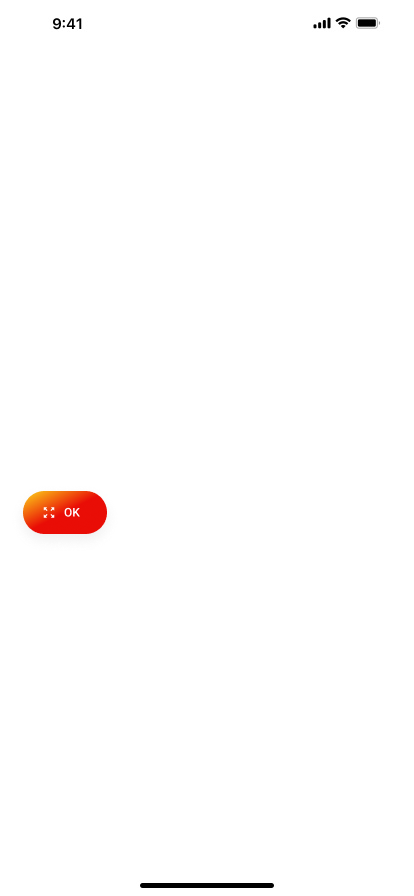Buttons: (8, 482, 122, 555)
Home Indicator: (0, 862, 414, 896)
Status Bar: (0, 0, 414, 44)
